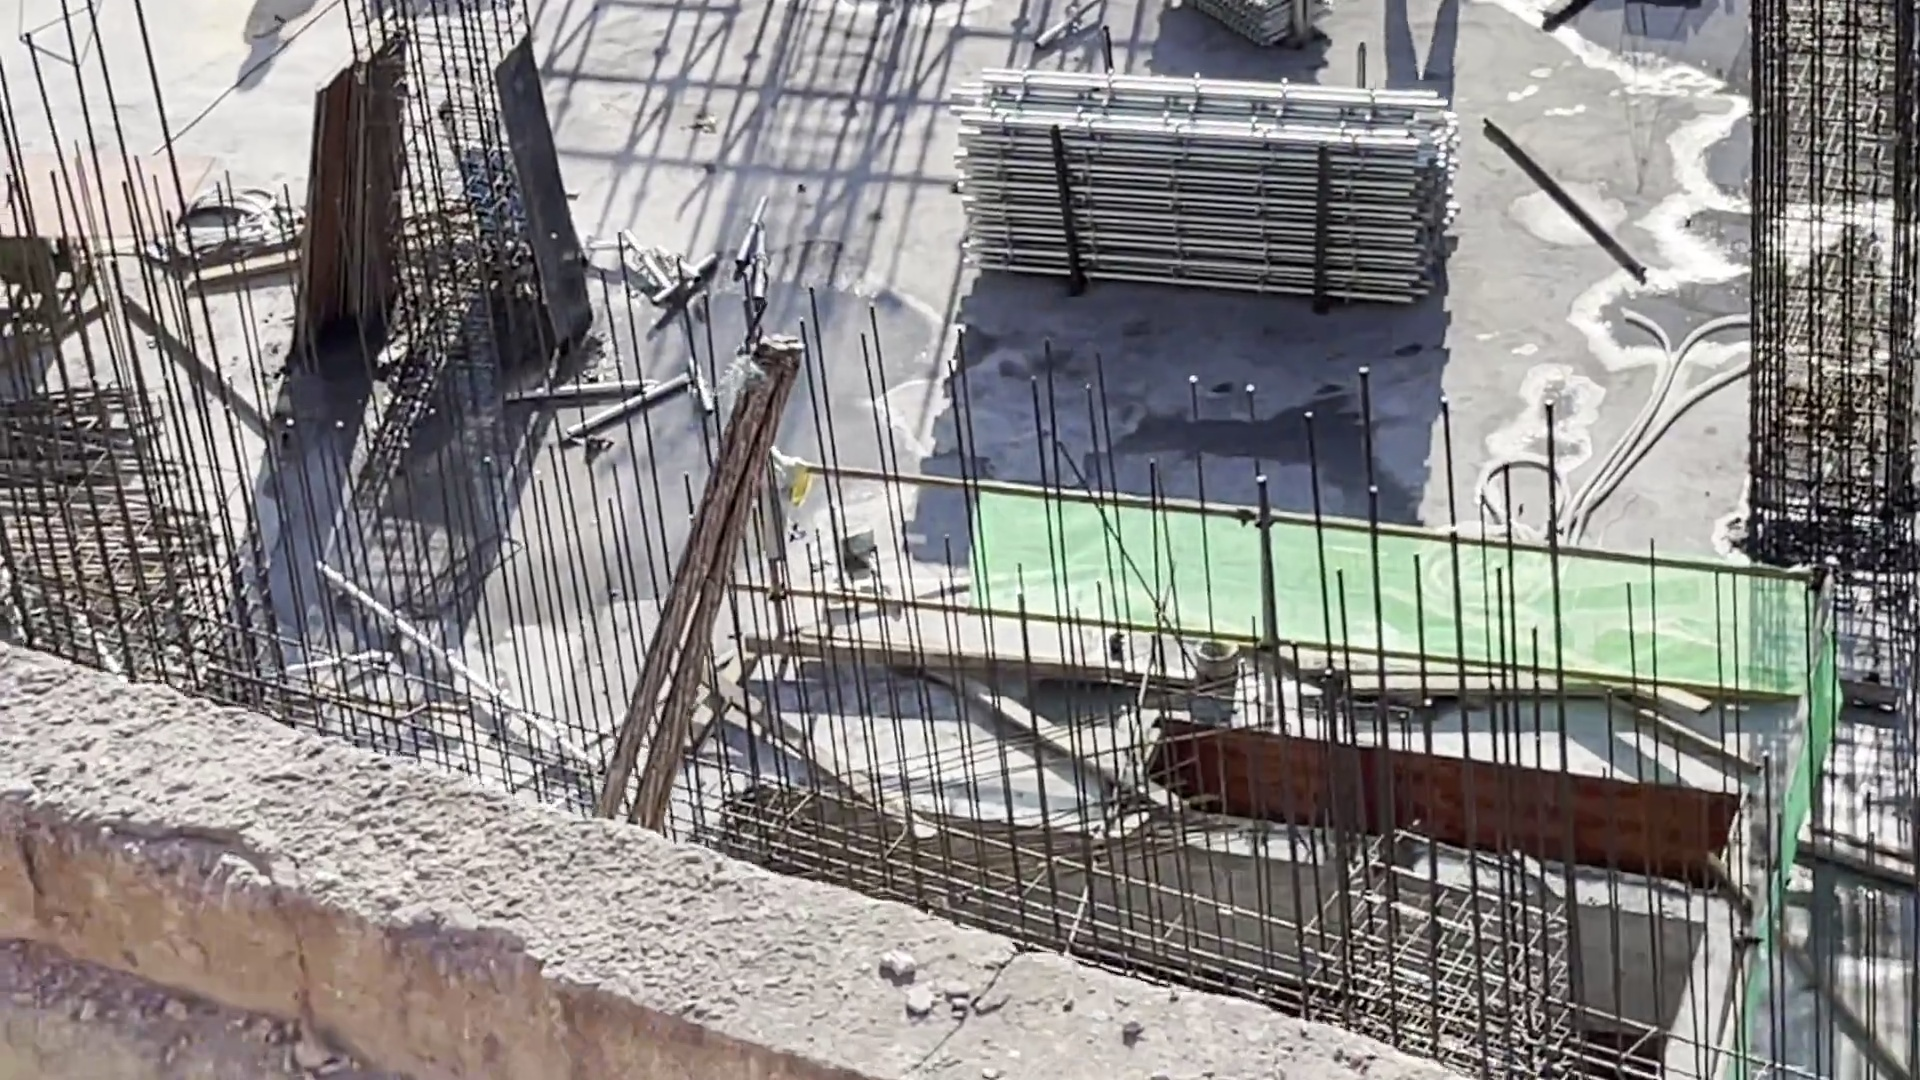scaffold: (943, 61, 1466, 309)
